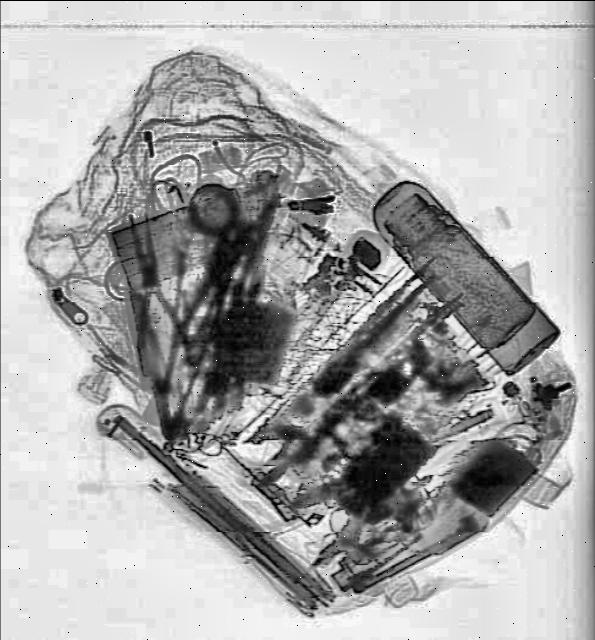Pliers: (110, 205, 196, 372)
